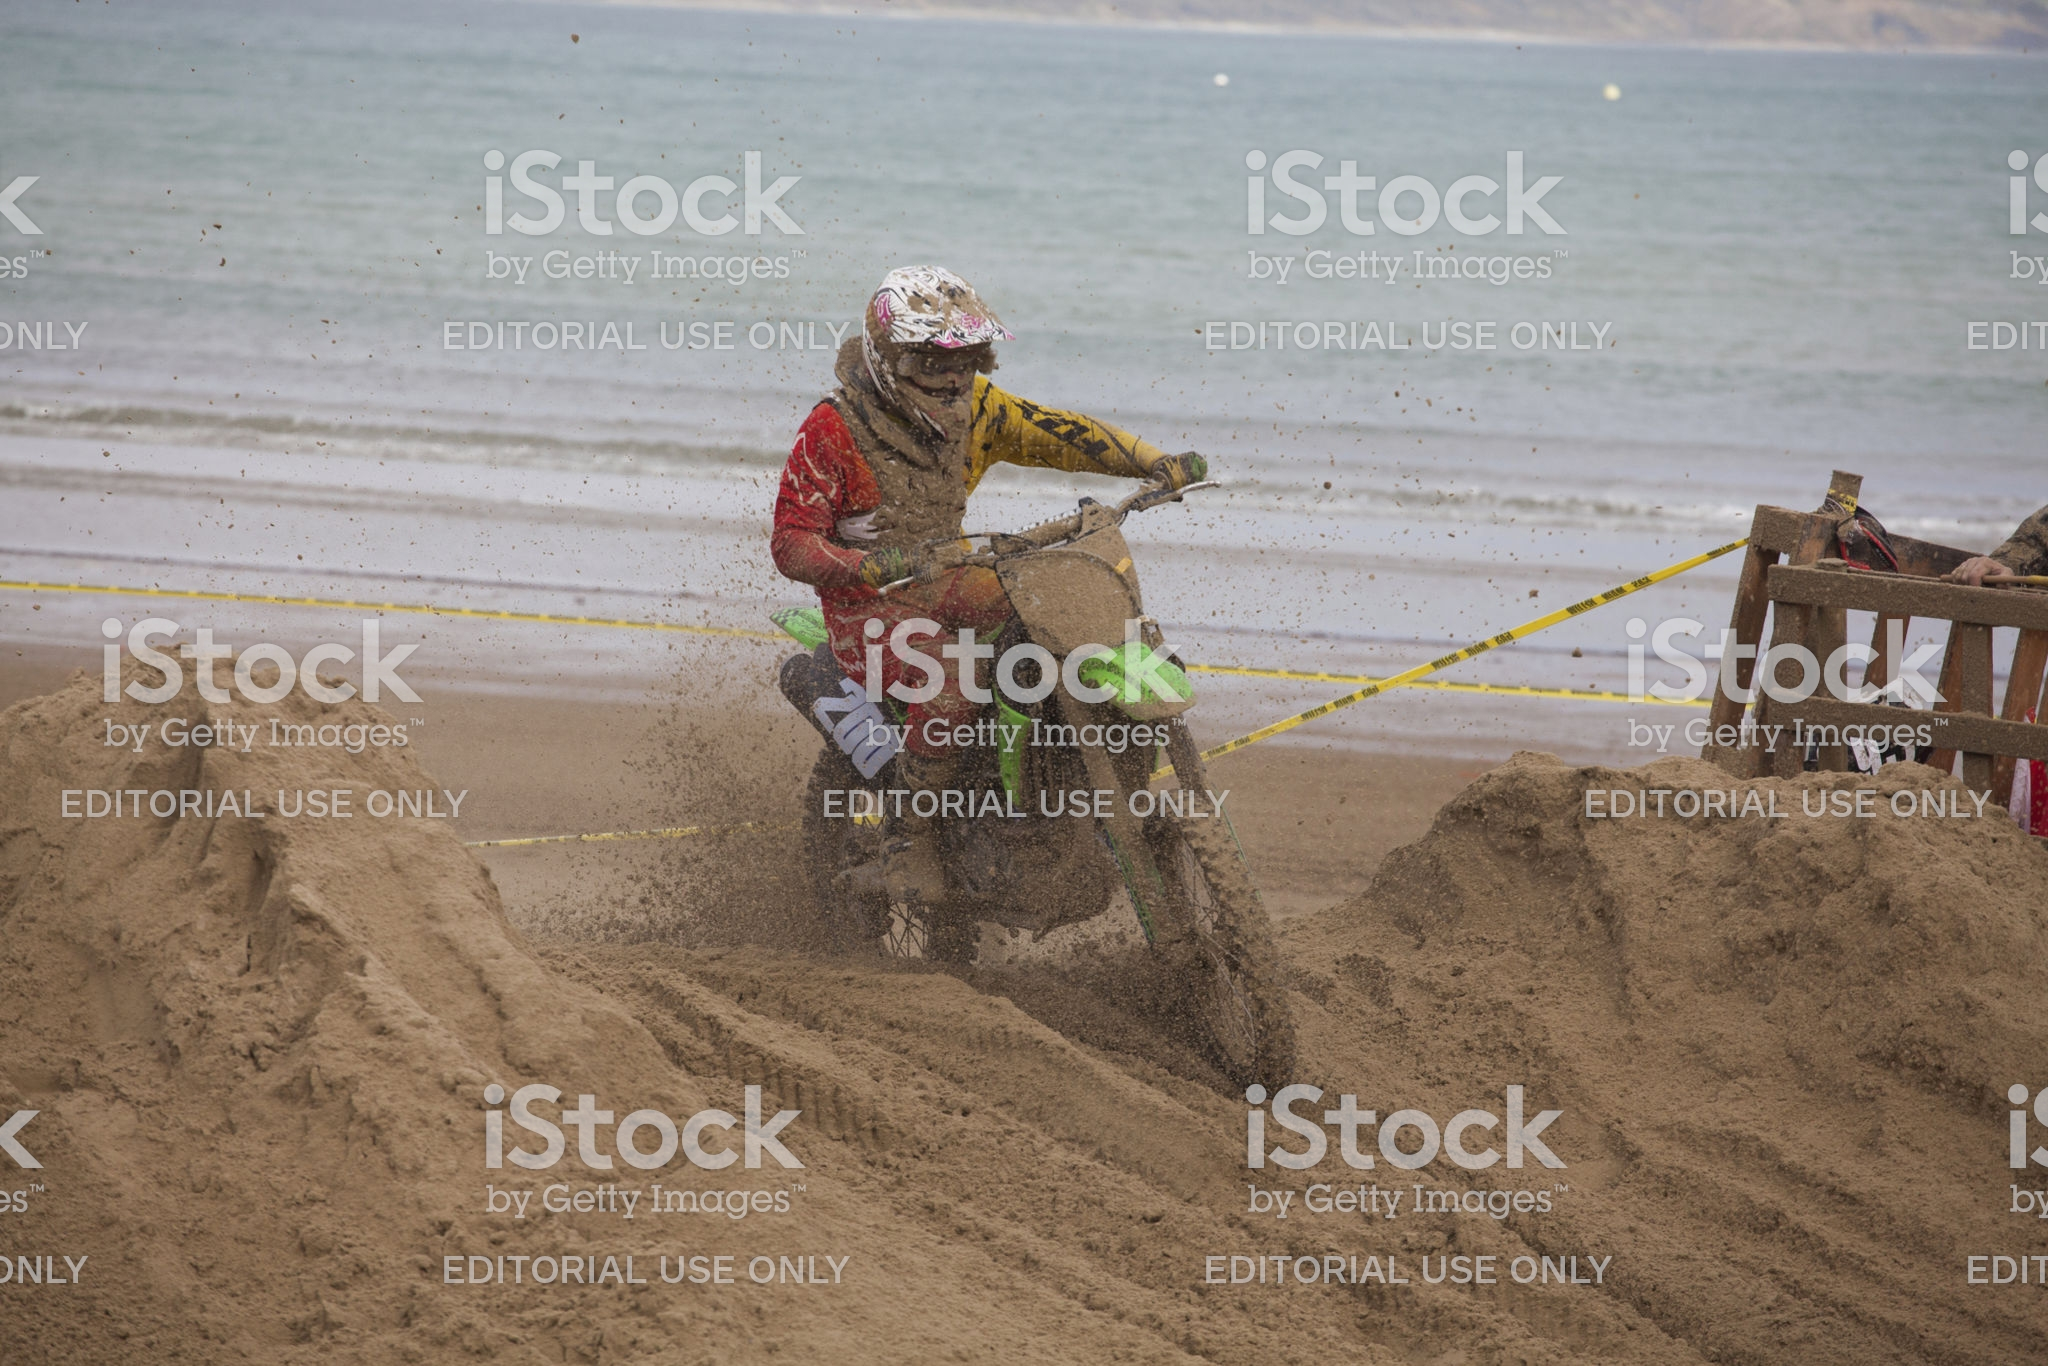helmet: (856, 250, 1013, 436)
